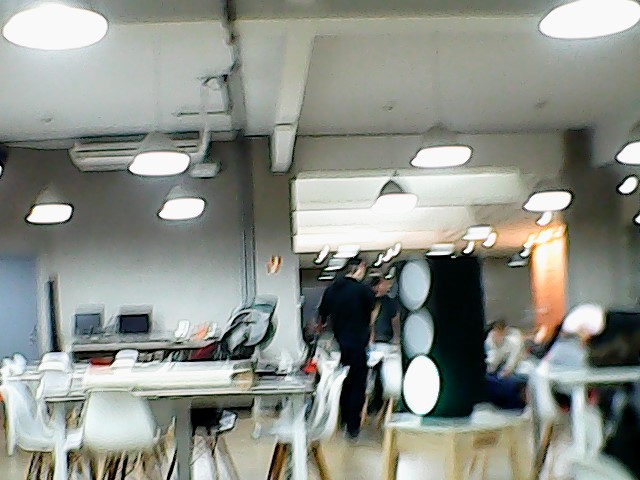verde: (390, 257, 497, 427)
